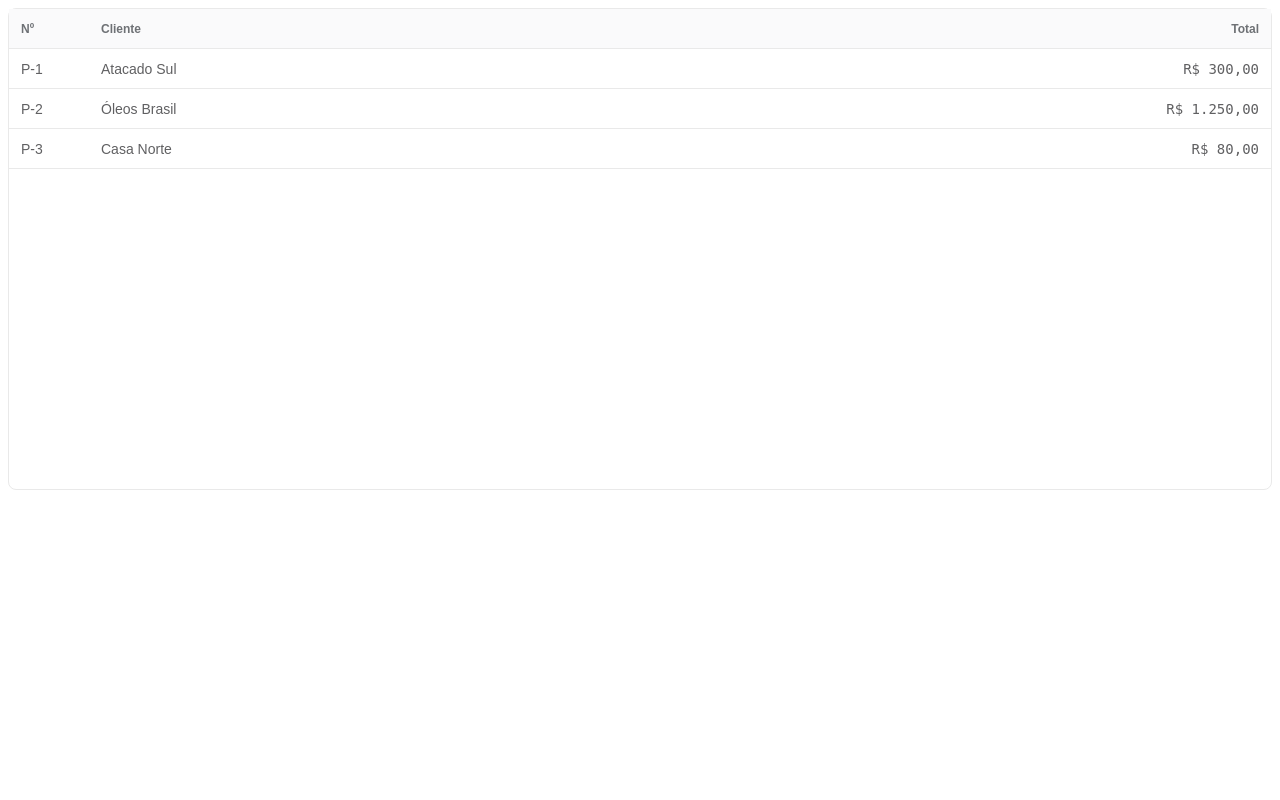
DataGrid › filters › filters a column from the funnel after a pause, marks the title and announces the count
Press ArrowDown in the column heading "Cliente", box [89,9,680,49]
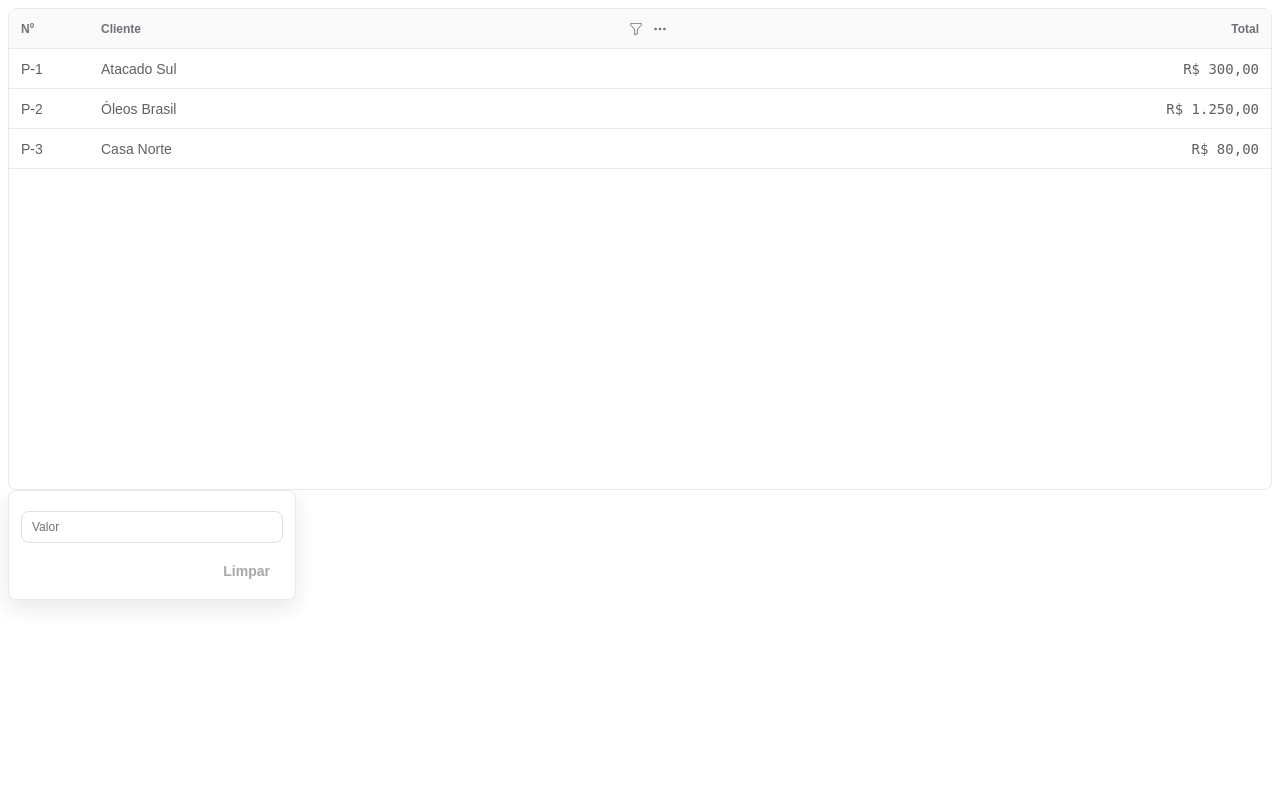
Type "sul" into the field named "Valor de Cliente" at (152, 527), box [21,511,283,543]
Wait 300 ms
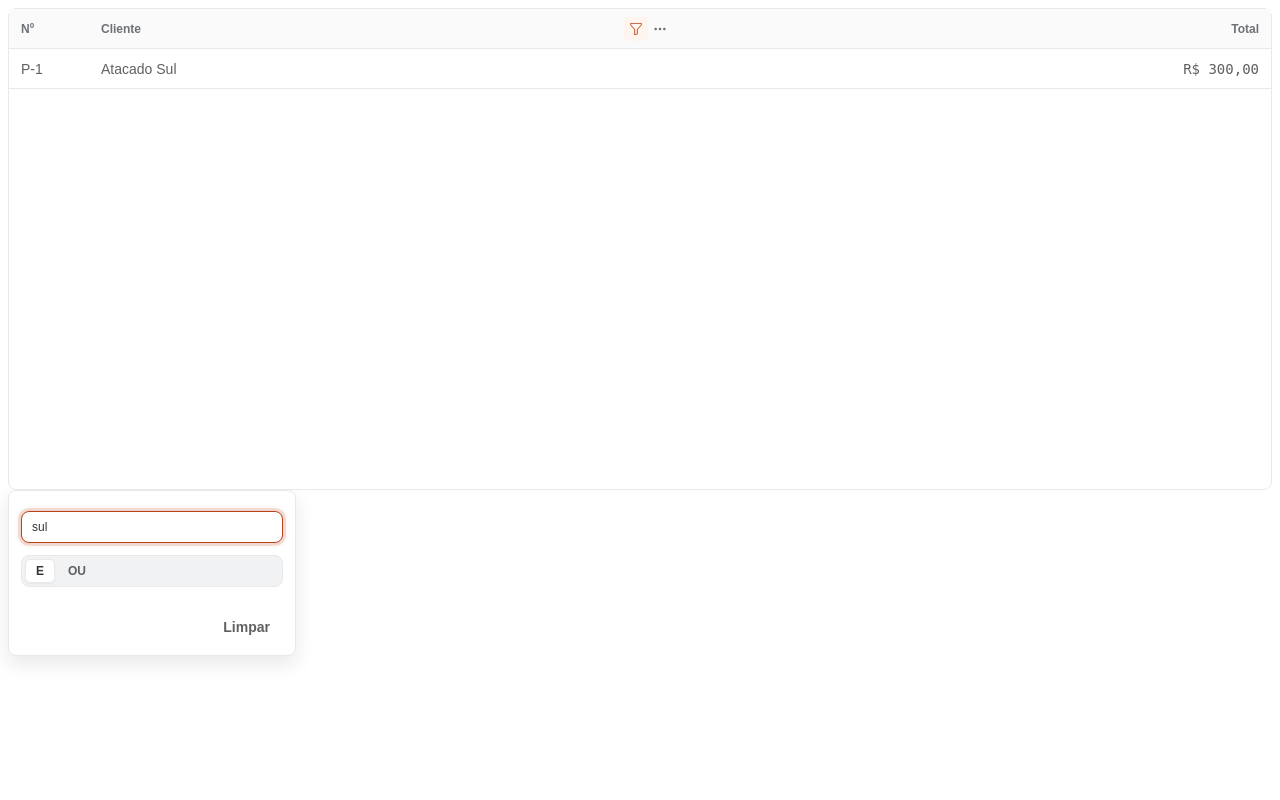
expect the column heading named "Cliente filtrada" is shown: met, box [89,9,680,49]
expect the button named "Filtrar Cliente, filtro ativo" is shown: met, box [624,16,648,40]
